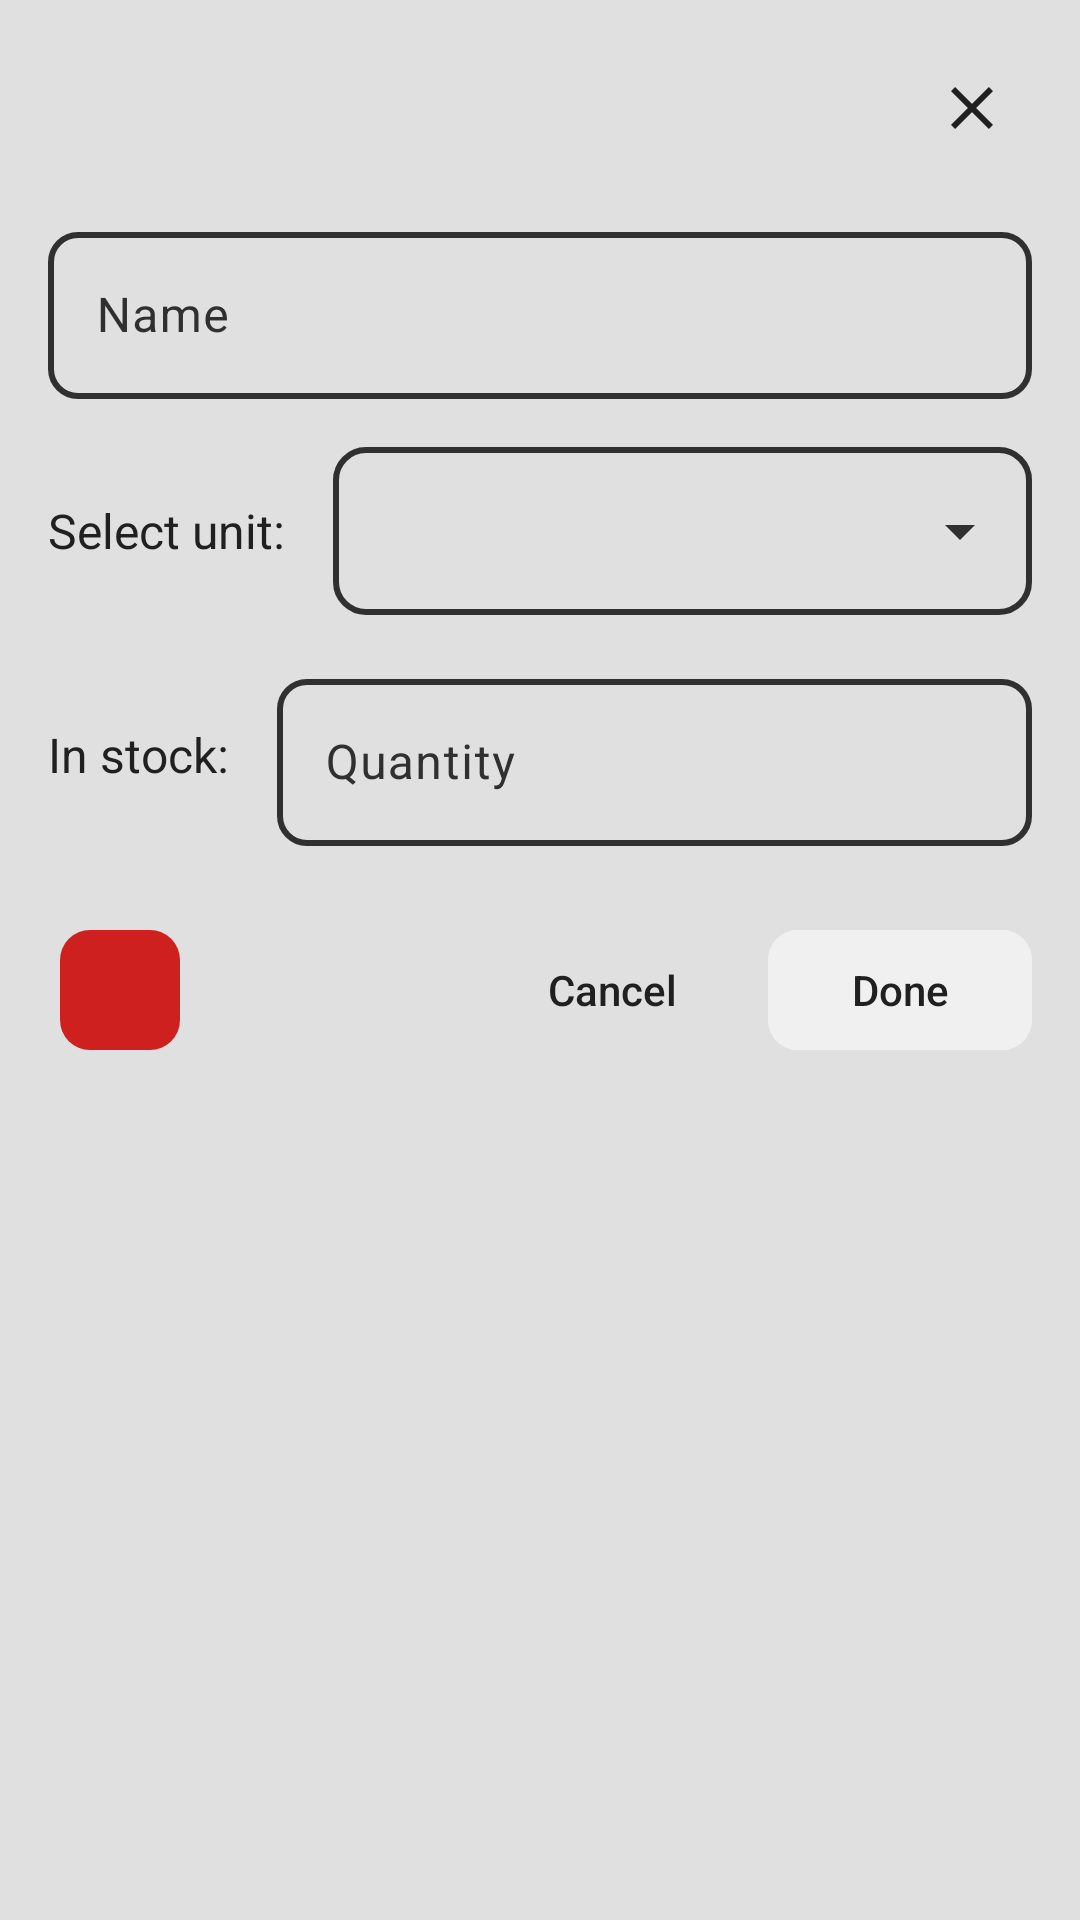

Screen size 1080x1920. Icon name, then its center in pixels as (x=x, y=y):
Close: (x=972, y=108)
